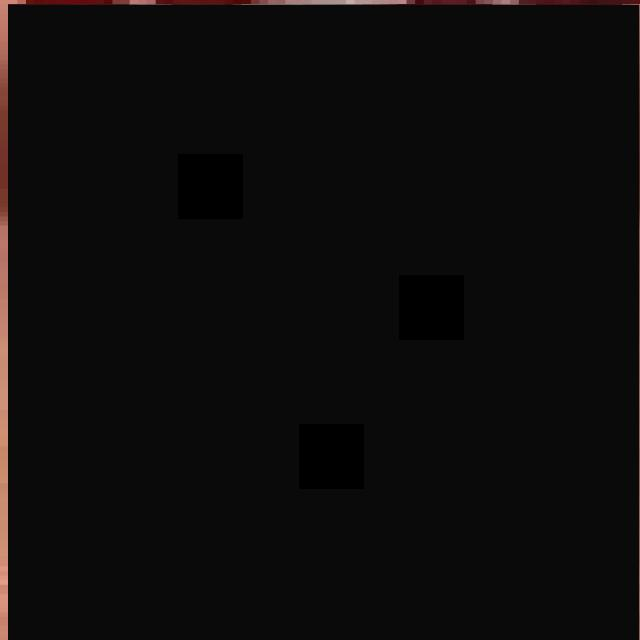fire: (8, 4, 640, 640)
